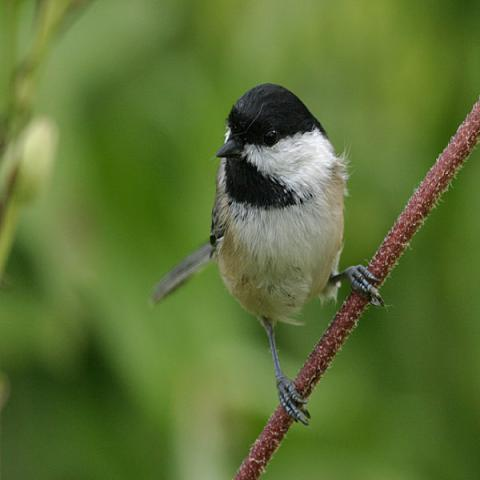bird: (148, 78, 386, 426)
